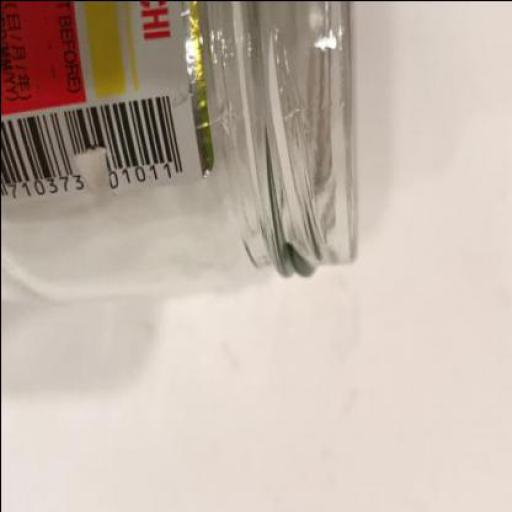glass: (0, 1, 358, 299)
